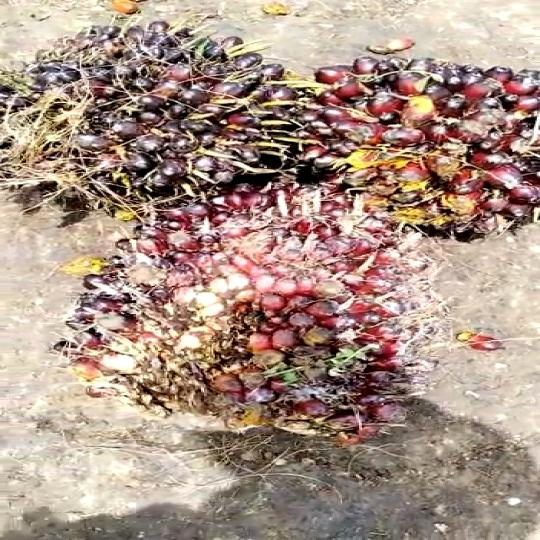kurang masak: (56, 167, 455, 453), (0, 13, 327, 208), (272, 56, 540, 251)
